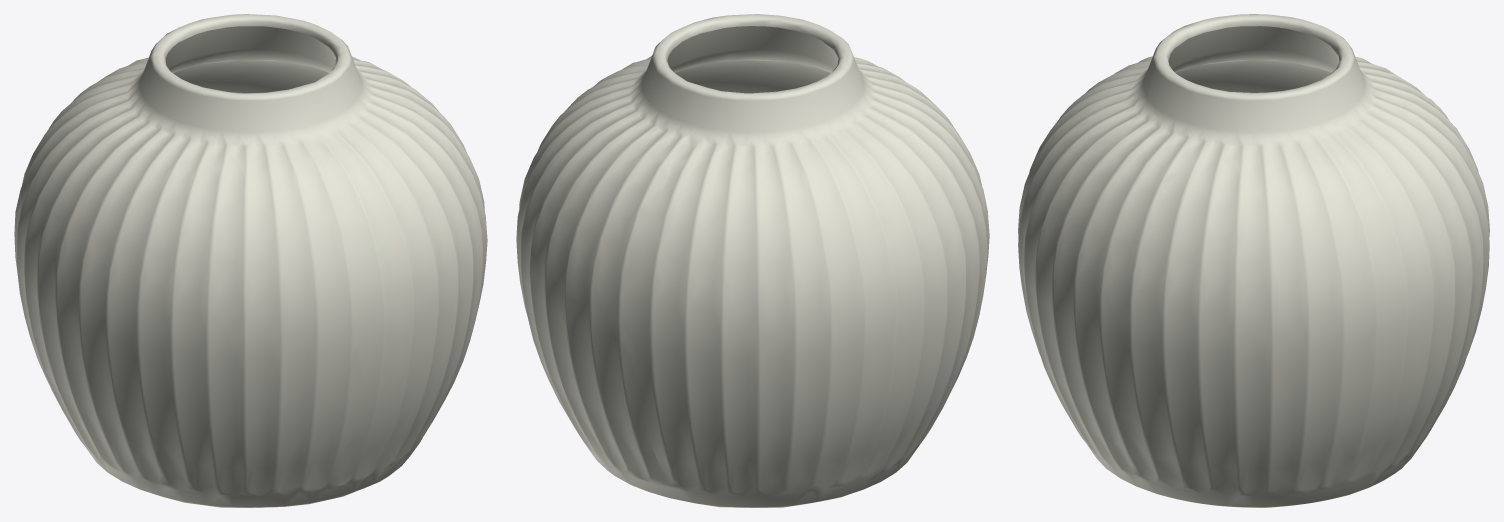
File: pelarbjoerk_vase_white.glb
3 views of the same model, side by side, from view 1: azimuth 30°, elevation 25°; view 2: azimuth 150°, elevation 25°; view 3: azimuth 270°, elevation 25° (orthographic).
Visible parts, largest first — view 1: ASY_ART_80607311_S01_NV01; view 2: ASY_ART_80607311_S01_NV01; view 3: ASY_ART_80607311_S01_NV01.
Part boxes in pixels (x1,y1,x2,y2): ASY_ART_80607311_S01_NV01: (14,14,487,507); ASY_ART_80607311_S01_NV01: (516,14,989,507); ASY_ART_80607311_S01_NV01: (1018,14,1489,507).
Bounding box in the file's own units: 0.1533 × 0.1382 × 0.1533.
2 materials, 2 textured.
